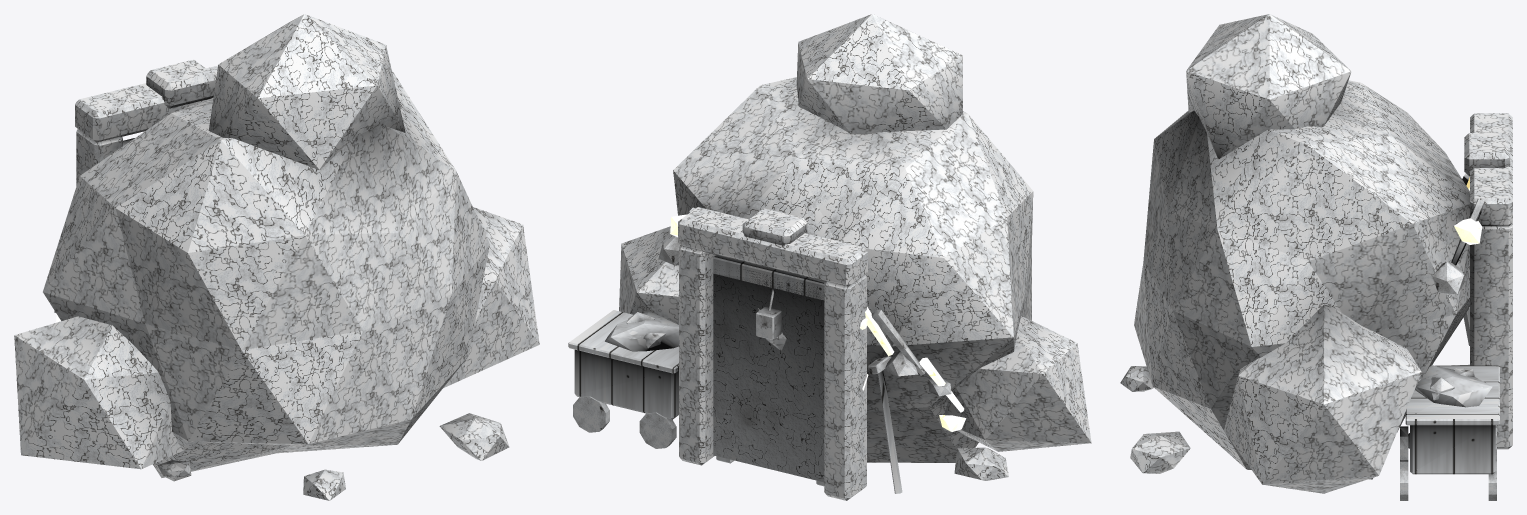
3 renders of one model, left to right at view 1: azimuth 30°, elevation 25°; view 2: azimuth 150°, elevation 25°; view 3: azimuth 270°, elevation 25°, orthographic. The views are drawn at different scales.
Parts seen in each view (by area): view 1: goldmine_M_rock, goldmine_M_rock_dark; view 2: goldmine_M_rock, goldmine_M_rock_dark, goldmine_M_cavity, goldmine_M_wood, goldmine_M_wood_dark, goldmine_M_iron, goldmine_M_gold, goldmine_M_ore, goldmine_M_gold_glow; view 3: goldmine_M_rock, goldmine_M_rock_dark, goldmine_M_wood_dark, goldmine_M_wood, goldmine_M_ore, goldmine_M_gold, goldmine_M_iron, goldmine_M_gold_glow.
Part boxes in pixels (x1,y1,x2,y2): goldmine_M_rock: (43,14,489,477); goldmine_M_rock_dark: (14,65,539,500); goldmine_M_rock: (673,14,1033,462); goldmine_M_rock_dark: (619,207,1091,500); goldmine_M_cavity: (713,269,824,482); goldmine_M_wood: (568,255,902,493); goldmine_M_wood_dark: (574,349,824,486); goldmine_M_iron: (573,307,891,448); goldmine_M_gold: (626,207,951,396); goldmine_M_ore: (605,311,678,351); goldmine_M_gold_glow: (670,214,966,431); goldmine_M_rock: (1134,14,1509,479); goldmine_M_rock_dark: (1120,113,1512,493); goldmine_M_wood_dark: (1410,425,1495,474); goldmine_M_wood: (1405,308,1499,425); goldmine_M_ore: (1415,365,1492,407); goldmine_M_gold: (1430,173,1484,400); goldmine_M_iron: (1400,426,1496,500); goldmine_M_gold_glow: (1454,177,1482,244).
Size of the model in its own units: 3.89 by 3.3 by 2.74.
Materials: 10 (10 with a texture image).
